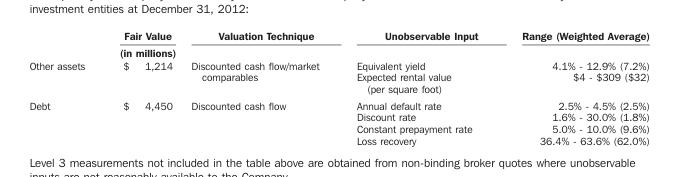table: (28, 28, 648, 146)
table column: (337, 28, 499, 146), (182, 28, 337, 146), (499, 28, 648, 146), (101, 28, 182, 146), (28, 28, 101, 146)
table column header: (28, 28, 648, 58)
table row: (28, 58, 648, 96), (28, 28, 648, 58), (28, 96, 648, 110), (28, 110, 648, 122), (28, 122, 648, 134), (28, 134, 648, 146)
